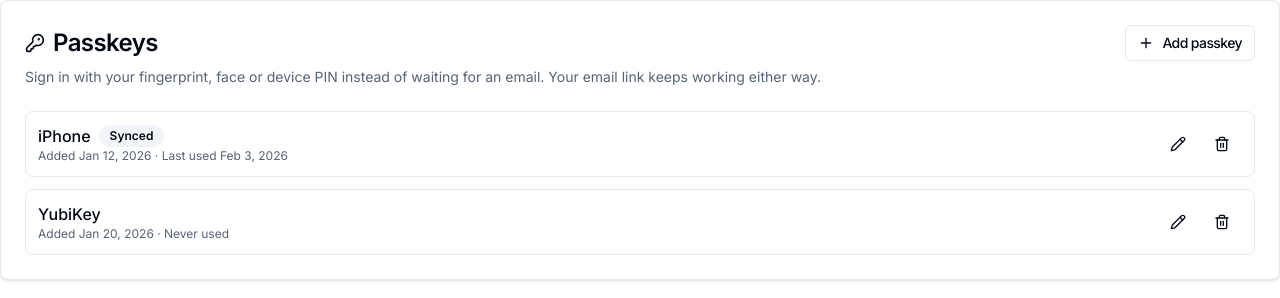
Test case: PasskeysCard › leaves the name alone when the rename is cancelled
expect the text "iPhone" is shown: met, box [38,124,91,148]
Click the button named "Rename iPhone": coordinates (1178, 144) [1158,126,1198,162]
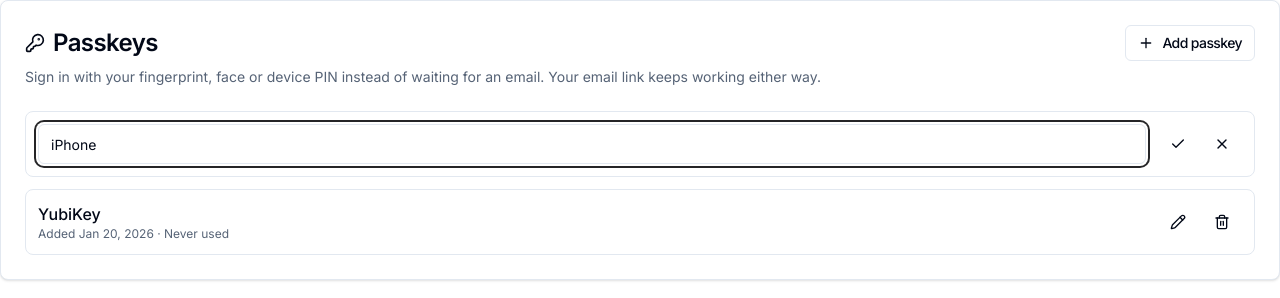
In the field named "Passkey name": coordinates (592, 144) [38,124,1146,164], type " at home"
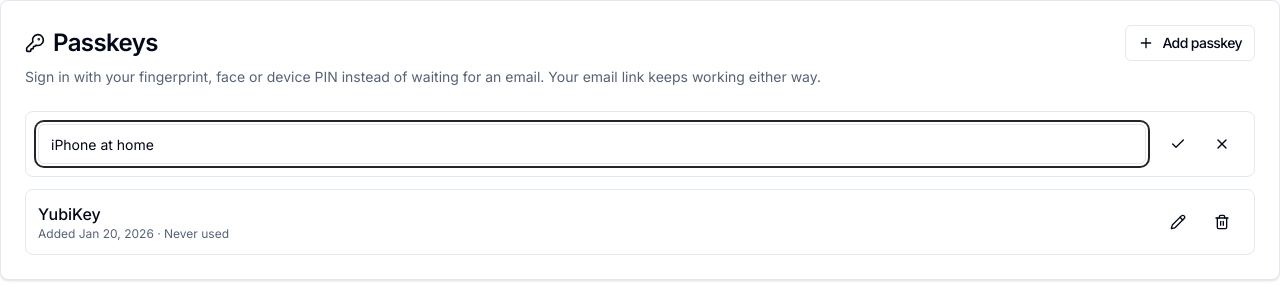
Click the button named "Cancel rename": coordinates (1222, 144) [1202,126,1242,162]
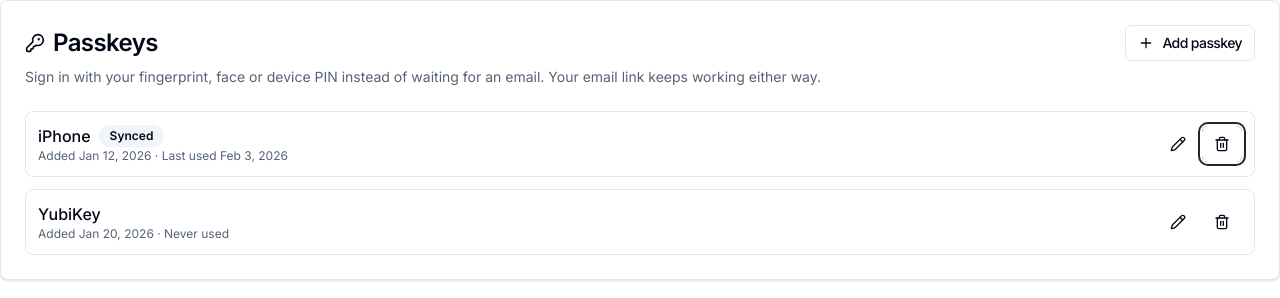
expect the text "iPhone" is shown: met, box [38,124,91,148]
